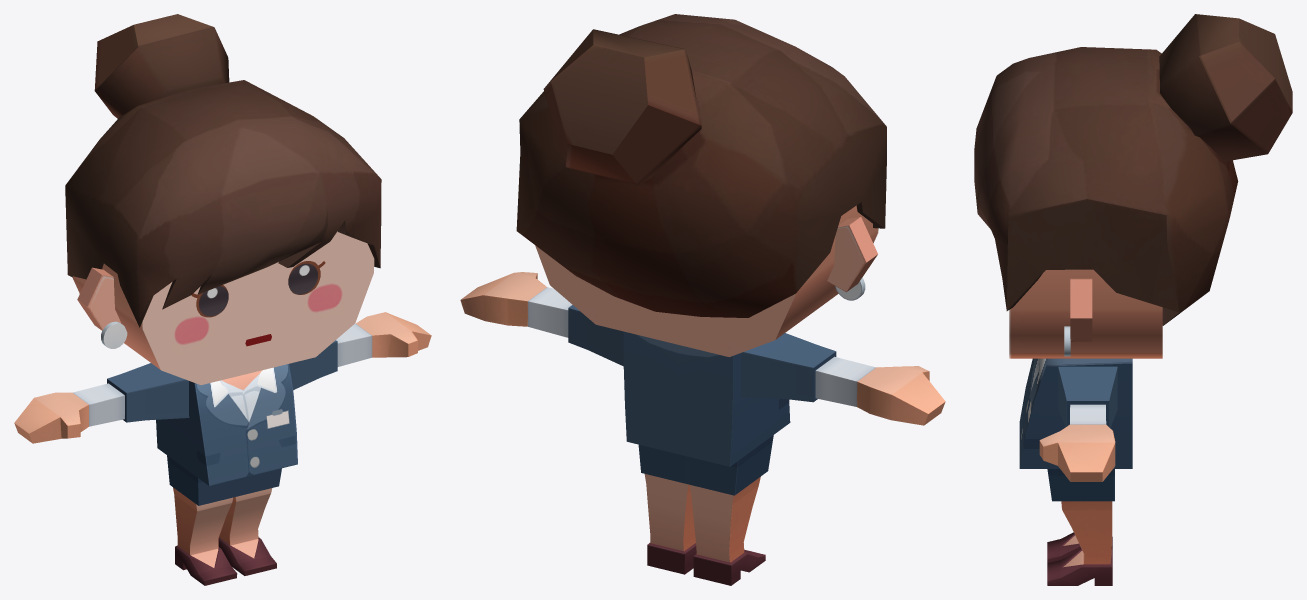
The model's file is 宝宝学汉字-角色-NPC市政服务001.FBX.
3 views of the same model, side by side, from view 1: azimuth 30°, elevation 25°; view 2: azimuth 150°, elevation 25°; view 3: azimuth 270°, elevation 25° (orthographic). The views are drawn at different scales.
Visible parts, largest first — view 1: 宝宝学汉字-角色-NPC市政服务001; view 2: 宝宝学汉字-角色-NPC市政服务001; view 3: 宝宝学汉字-角色-NPC市政服务001.
Boxes of the visible parts, x1,y1,x2,y2 form: 宝宝学汉字-角色-NPC市政服务001: [14, 14, 431, 585]; 宝宝学汉字-角色-NPC市政服务001: [460, 14, 945, 585]; 宝宝学汉字-角色-NPC市政服务001: [974, 14, 1292, 585].
Size of the model in its own units: 88.42 by 103 by 55.49.
1 material, 1 textured.
